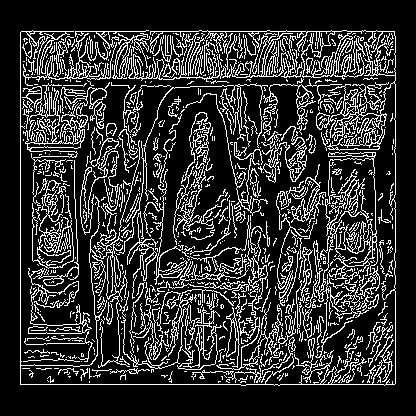buddha-sitting: (156, 113, 244, 290), (329, 179, 379, 312), (29, 181, 79, 309)
